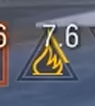1fire: (15, 51, 81, 83)
